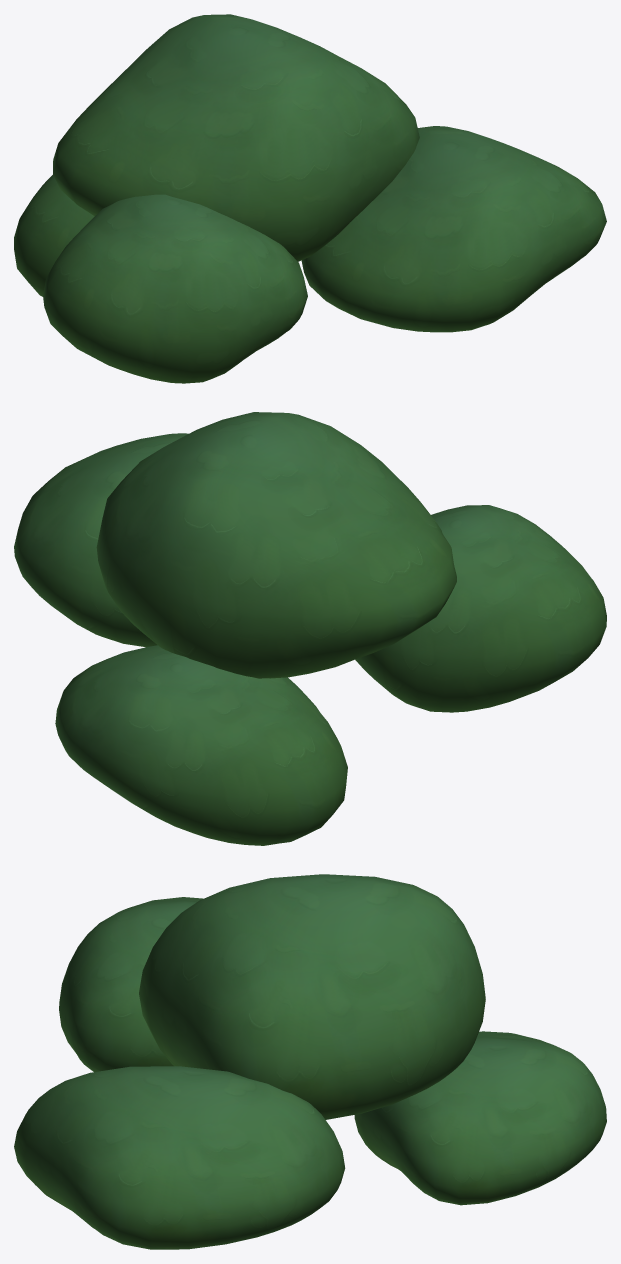
Rendered from OakTree_Leaves.fbx.
3 views of the same model, one above another, from view 1: azimuth 30°, elevation 25°; view 2: azimuth 150°, elevation 25°; view 3: azimuth 270°, elevation 25° (orthographic). The views are drawn at different scales.
Visible parts, largest first — view 1: Cube.008; view 2: Cube.008; view 3: Cube.008.
Part boxes in pixels (bbox=[...]): Cube.008: bbox=[14, 14, 606, 383]; Cube.008: bbox=[14, 412, 606, 845]; Cube.008: bbox=[14, 874, 606, 1249].
Size of the model in its own units: 33.6 by 17.97 by 29.69.
